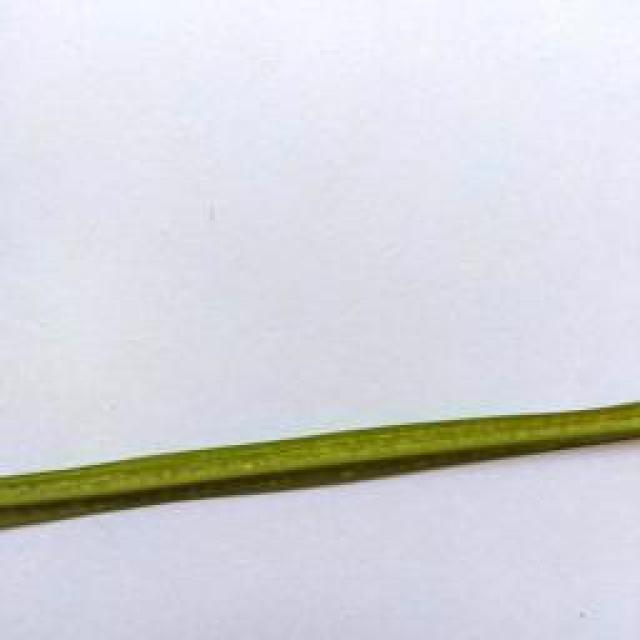Healthy-Plant: (0, 400, 640, 534)
